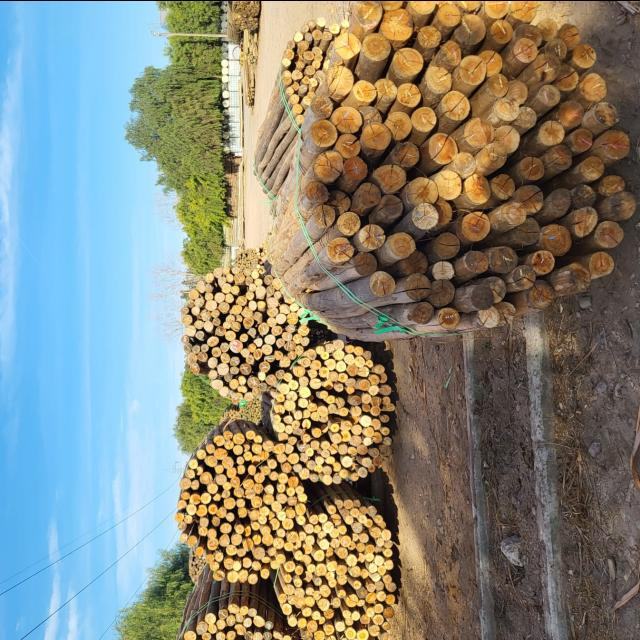package: (304, 0, 631, 332), (177, 422, 304, 580), (182, 262, 304, 401), (278, 339, 395, 483), (280, 498, 396, 640), (167, 601, 317, 640), (282, 18, 338, 122)
